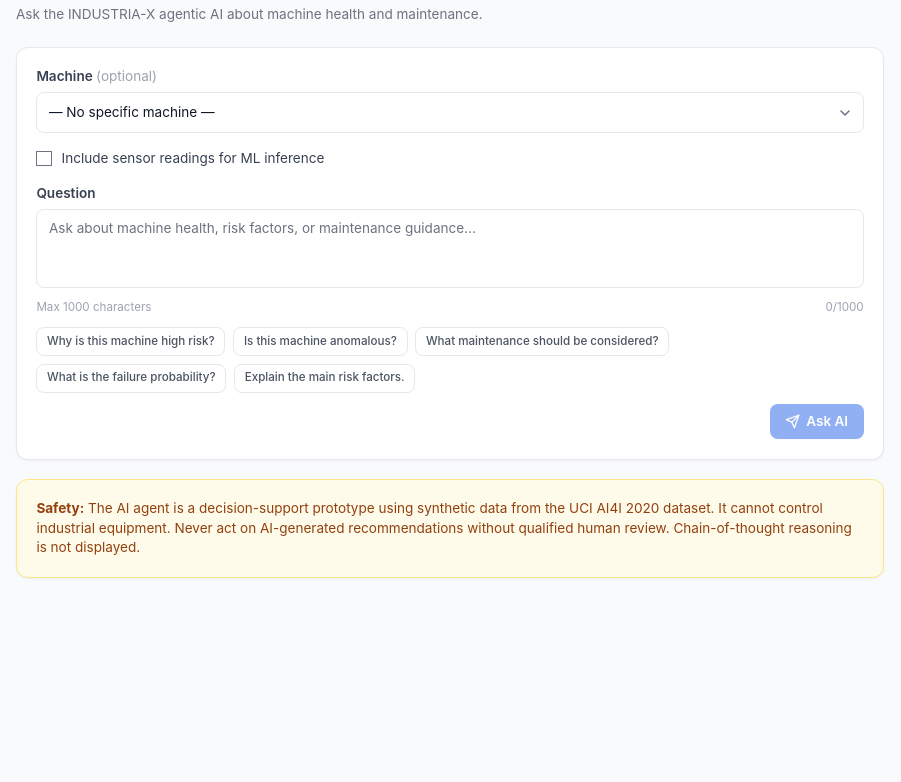
Test case: AIOperationsPage — query submission › displays evidence section
This screenshot has width=901, height=782.
Type "Risk?" into the text box named "AI query" at (450, 248), box [36,209,864,288]
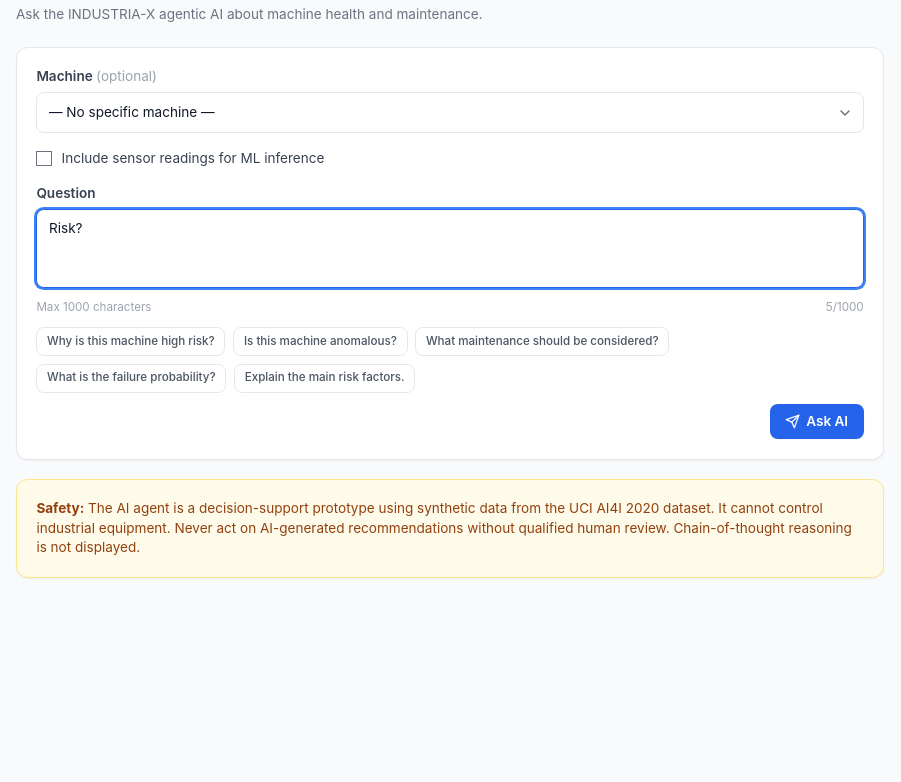
Click the button "Ask AI" at (817, 422), box [770,404,864,439]
(page scrolled)
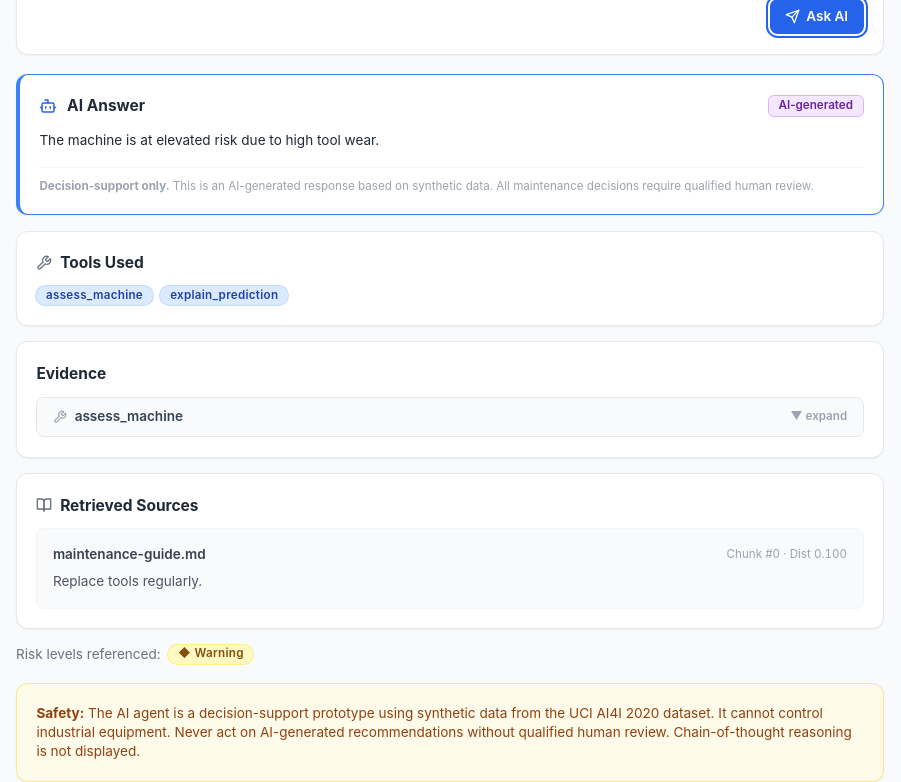
Result: the element named "Tool evidence" is shown at [16,341,884,458]
